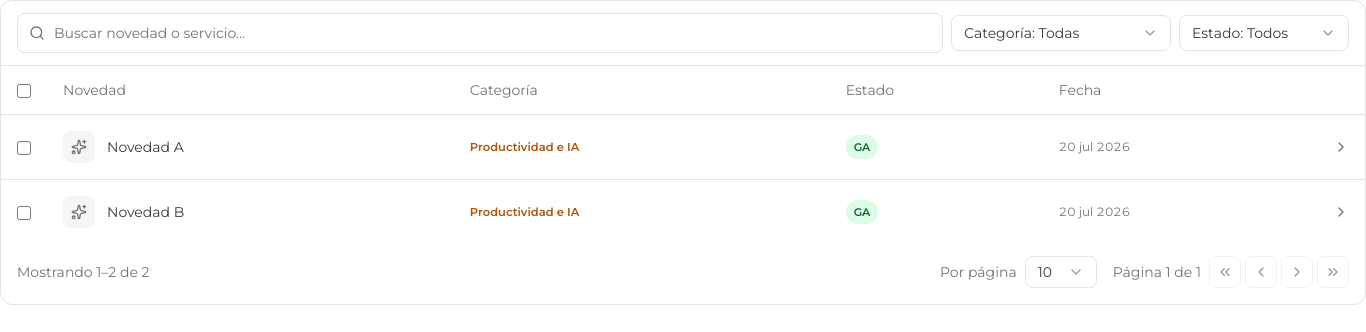
Test case: el checkbox del header selecciona/deselecciona toda la página visible
Click the checkbox named "Seleccionar la página": [24, 91] box [17, 84, 31, 98]
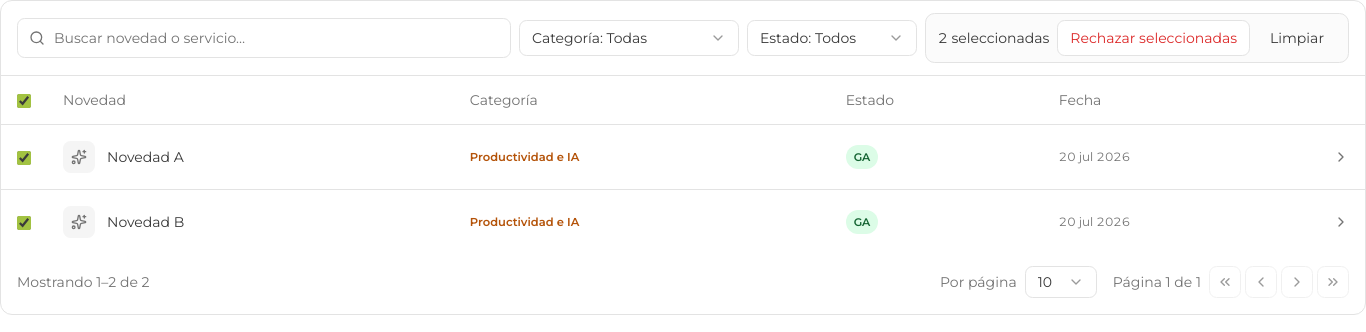
Expected: the text "2 seleccionadas" is shown, [938, 28, 1049, 48]
Click the checkbox named "Seleccionar la página": [24, 101] box [17, 94, 31, 108]
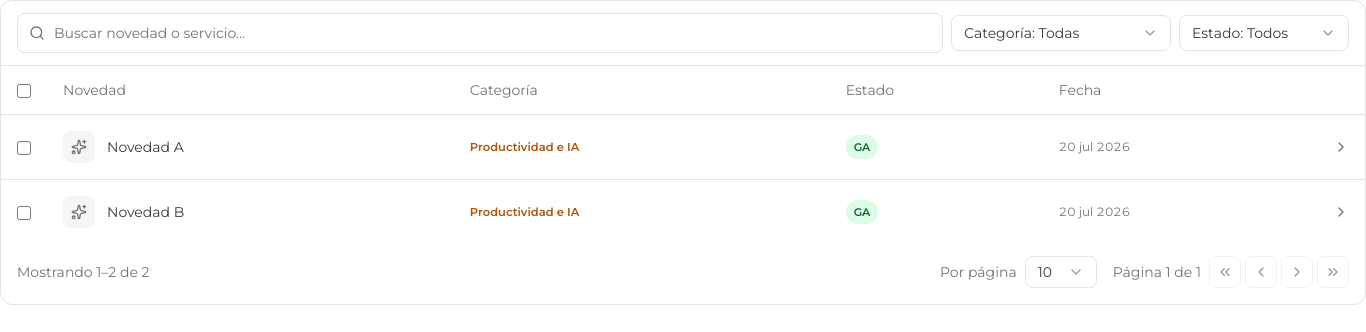
Expected: the text "seleccionada" is gone
